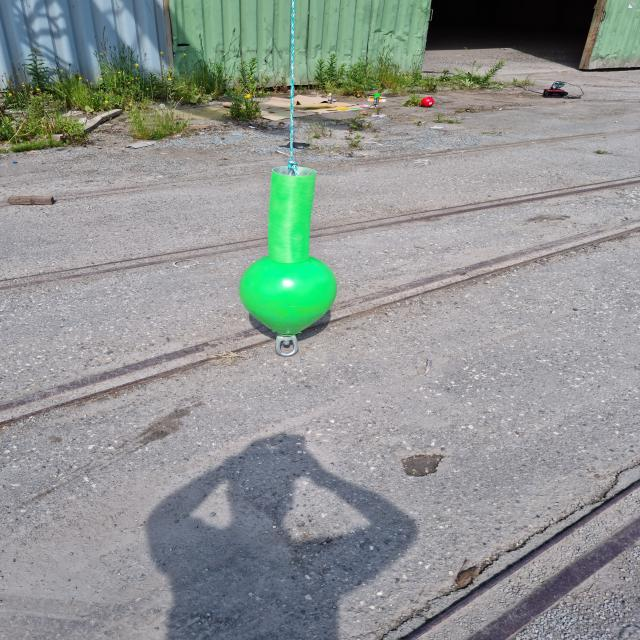green: (235, 170, 338, 334)
